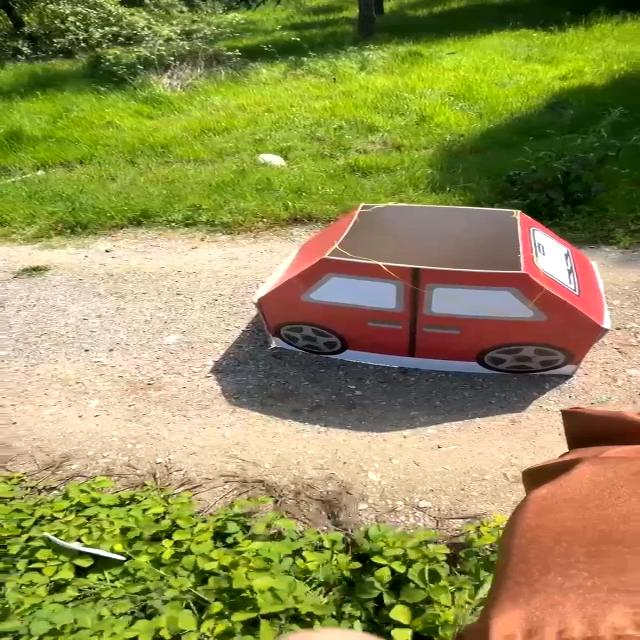red_car: (233, 194, 628, 395)
